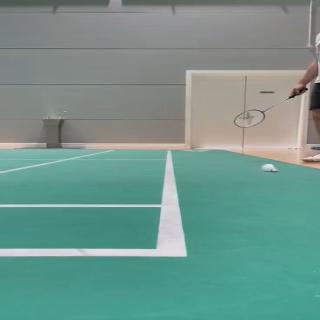Shuttle: (261, 164, 278, 172)
